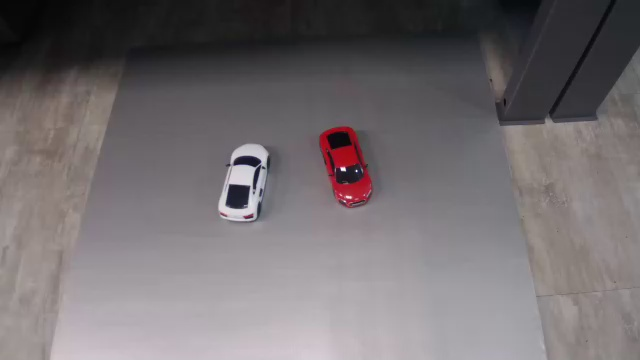car: (320, 125, 374, 209), (217, 142, 270, 223)
